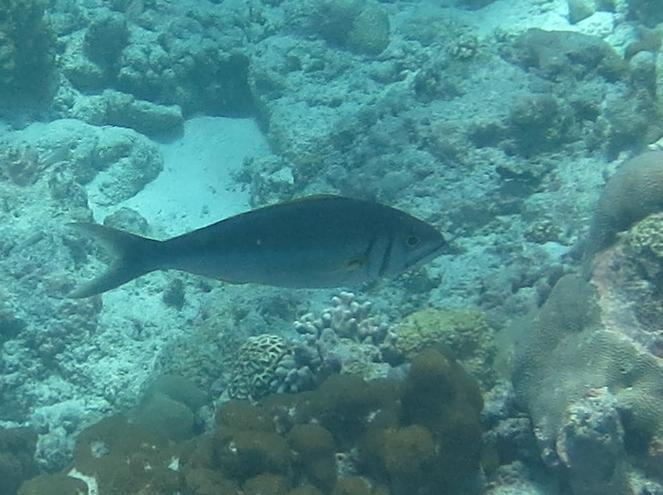Fish: (55, 179, 455, 301)
